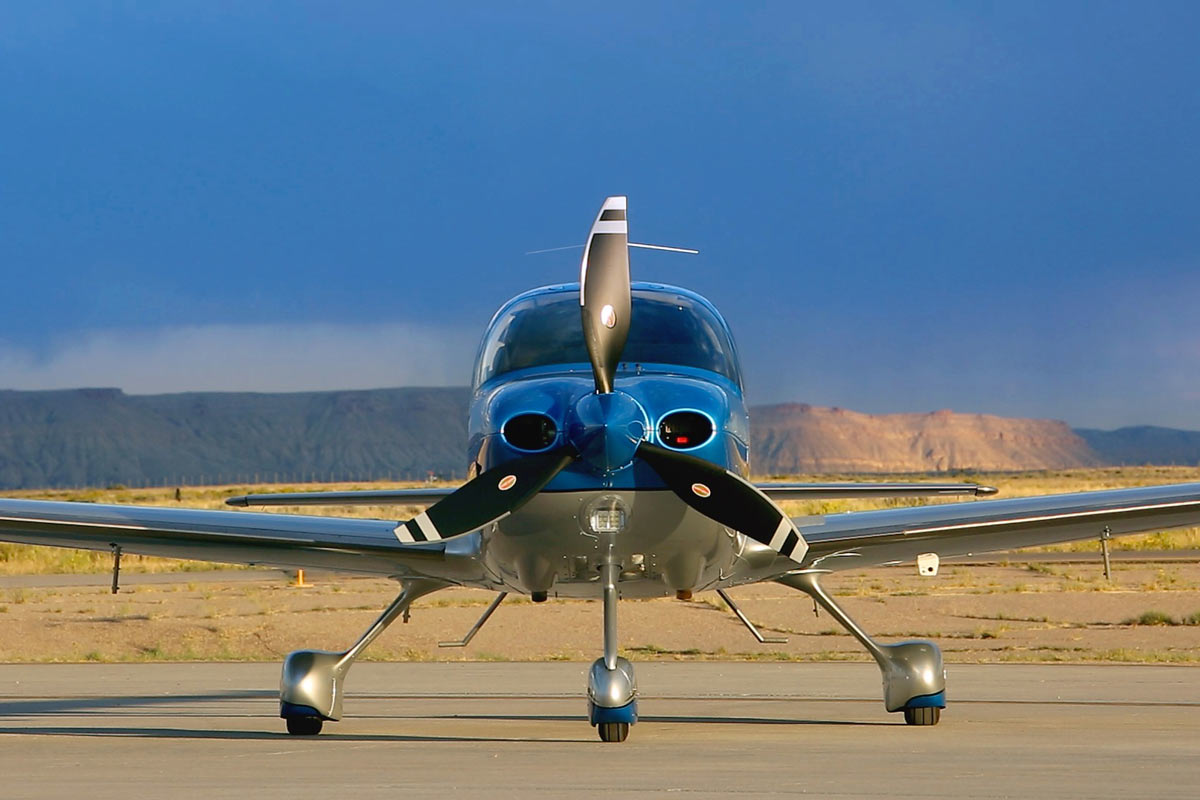Propeller: (389, 195, 814, 579)
